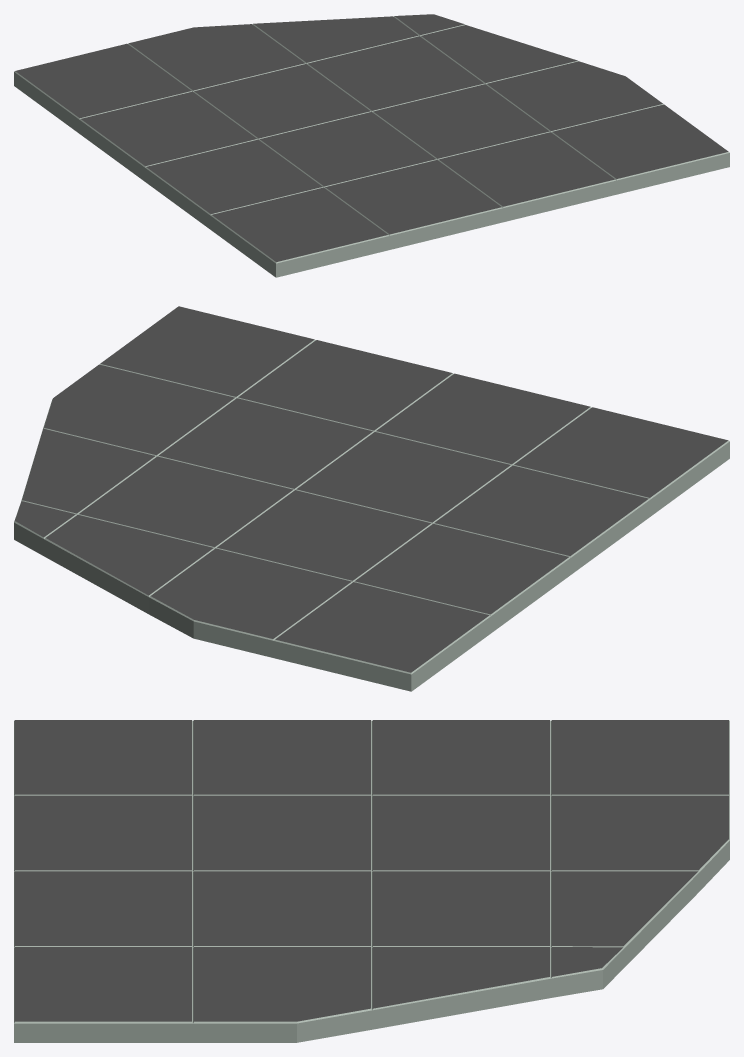
The model's file is C_Floor_Entrance.fbx.
3 views of the same model, one above another, from view 1: azimuth 30°, elevation 25°; view 2: azimuth 150°, elevation 25°; view 3: azimuth 270°, elevation 25° (orthographic). The views are drawn at different scales.
Visible parts, largest first — view 1: C_Floor_Entrance; view 2: C_Floor_Entrance; view 3: C_Floor_Entrance.
Part boxes in pixels (box(x1,y1,x2,y2)): C_Floor_Entrance: box(14, 14, 729, 277); C_Floor_Entrance: box(14, 306, 729, 691); C_Floor_Entrance: box(14, 720, 729, 1042).
Size of the model in its own units: 2000 by 2000 by 63.72.
